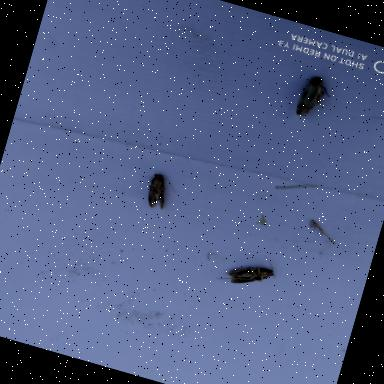pbw: (213, 242, 286, 302), (284, 68, 342, 130), (130, 166, 186, 217)
